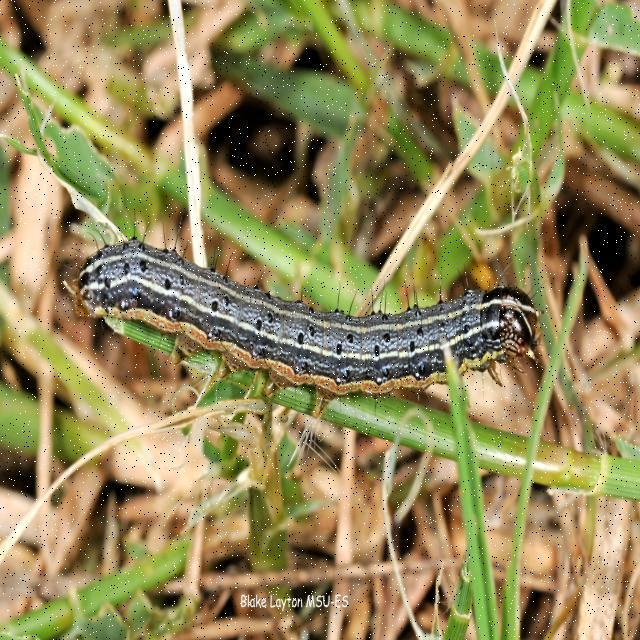army worm: (57, 219, 577, 405)
